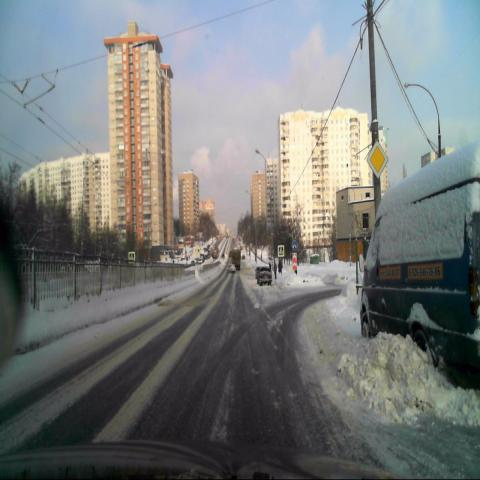2_1: (366, 139, 389, 180)
